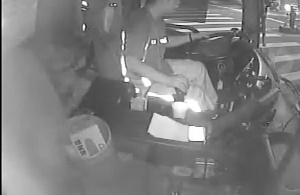paper: (146, 111, 210, 148)
